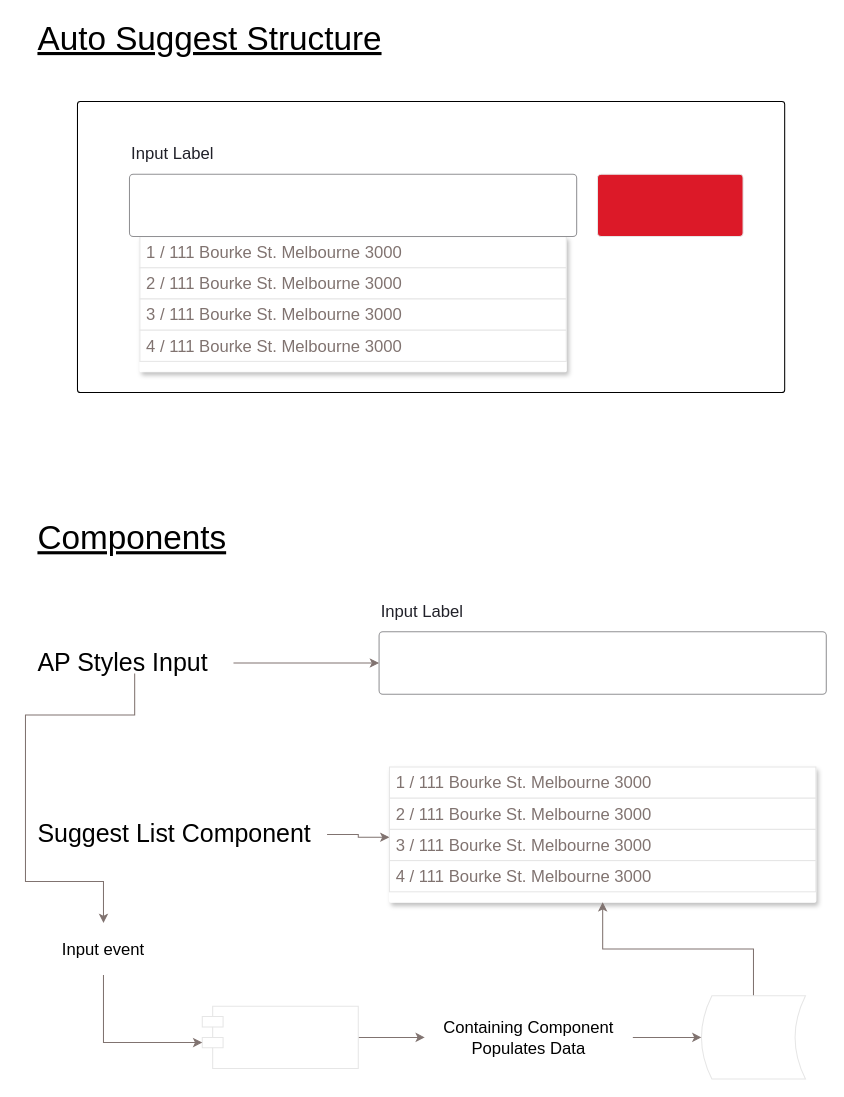
This 844x1097 diagram has some shape labels left out. Here are the shapes that lost their labels. From the top down, the centre of each, then its label:
At (669,205): "Button".
At (279,1037): "Containing Component".
